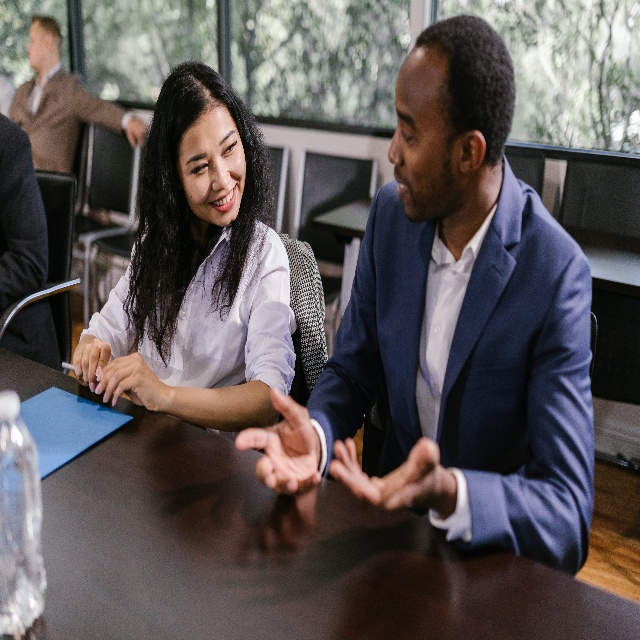Sin_guantes: (327, 427, 444, 521), (233, 390, 324, 495), (94, 351, 163, 412), (73, 337, 111, 397), (124, 112, 150, 150)
